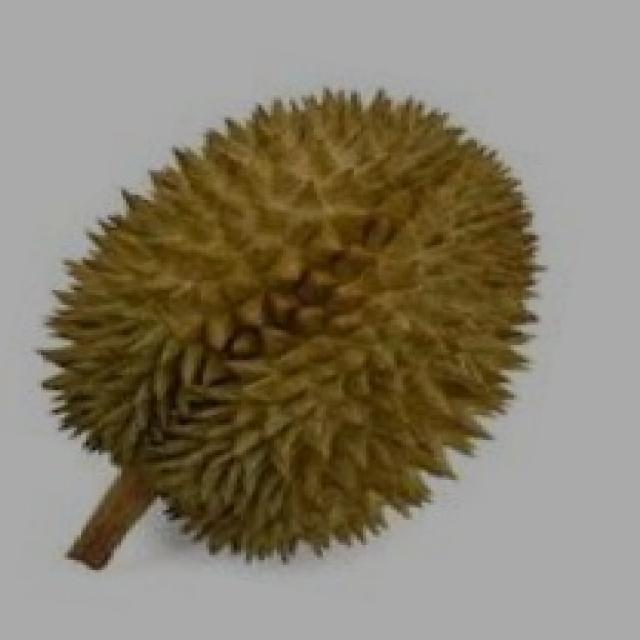fruit: (3, 230, 372, 605)
